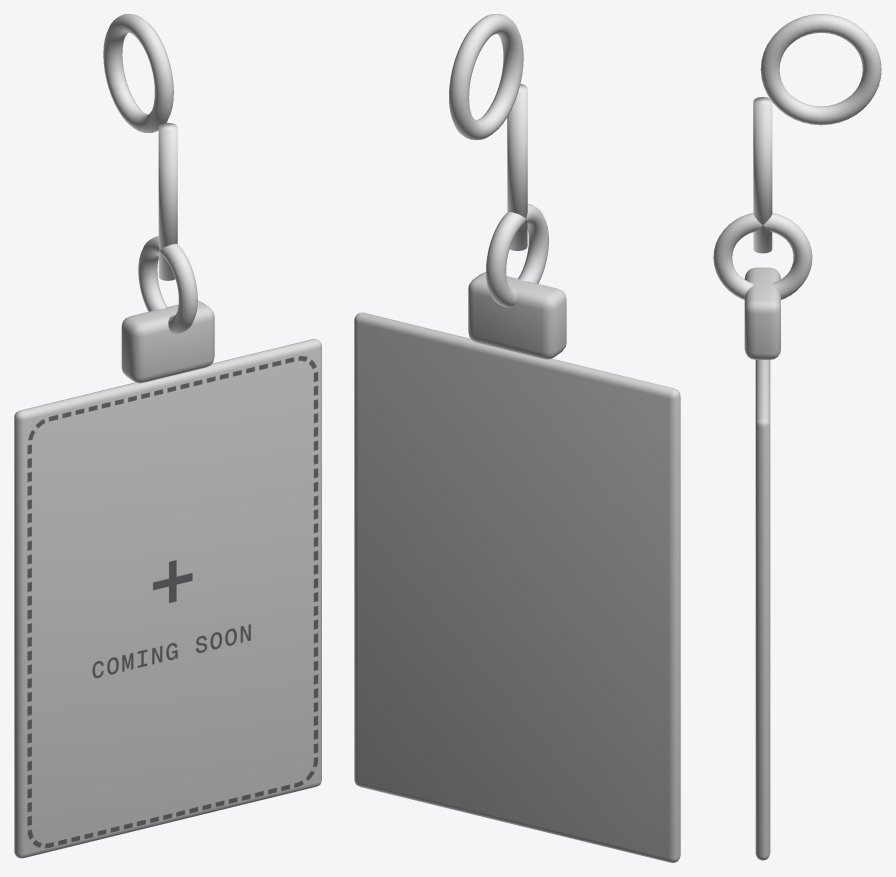
File: charm_ghost.glb
The picture shows the model from 3 angles, left to right: view 1: azimuth 30°, elevation 25°; view 2: azimuth 150°, elevation 25°; view 3: azimuth 270°, elevation 25°; orthographic projection. The views are drawn at different scales.
Visible parts, largest first — view 1: ghost_card, ghost_print, ghost_clip, hook_top.003, hook_low.003, hook_stem.003; view 2: ghost_card, ghost_clip, hook_top.003, hook_low.003, hook_stem.003; view 3: ghost_card, hook_top.003, hook_low.003, ghost_clip, hook_stem.003.
Boxes of the visible parts, x1,y1,x2,y2 form: ghost_card: (14,339,321,858); ghost_print: (27,356,317,848); ghost_clip: (121,300,214,383); hook_top.003: (103,14,173,132); hook_low.003: (138,236,197,333); hook_stem.003: (158,122,177,280); ghost_card: (354,312,680,862); ghost_clip: (468,272,566,359); hook_top.003: (449,14,523,140); hook_low.003: (486,204,548,307); hook_stem.003: (507,84,527,250); ghost_card: (755,360,770,860); hook_top.003: (760,14,881,125); hook_low.003: (713,213,812,299); ghost_clip: (744,267,780,359); hook_stem.003: (753,97,772,253).
Bounding box in the file's own units: 0.1267 × 0.3097 × 0.061.
3 materials, 1 textured.
